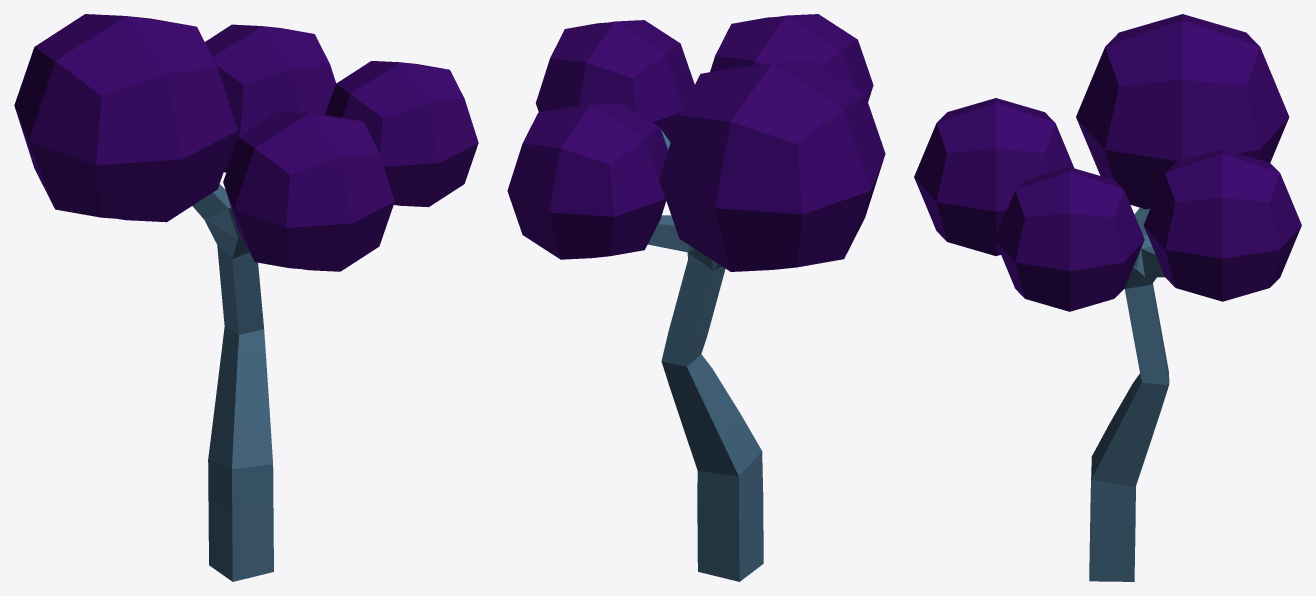
File: TreeLarge1.fbx
3 views of the same model, side by side, from view 1: azimuth 30°, elevation 25°; view 2: azimuth 150°, elevation 25°; view 3: azimuth 270°, elevation 25° (orthographic). The views are drawn at different scales.
Visible parts, largest first — view 1: Cube.002, Cube.001, Plane, Cube.003, Cube.004; view 2: Cube.002, Cube.004, Plane, Cube.003, Cube.001; view 3: Cube.002, Cube.004, Cube.003, Cube.001, Plane.
Part boxes in pixels (bbox=[...]): Cube.002: bbox=[14, 14, 237, 222]; Cube.001: bbox=[223, 112, 394, 271]; Plane: bbox=[192, 184, 273, 581]; Cube.003: bbox=[325, 61, 478, 207]; Cube.004: bbox=[205, 24, 336, 172]; Cube.002: bbox=[659, 61, 885, 271]; Cube.004: bbox=[507, 103, 667, 259]; Plane: bbox=[648, 129, 763, 581]; Cube.003: bbox=[535, 20, 694, 141]; Cube.001: bbox=[710, 14, 873, 101]; Cube.002: bbox=[1076, 14, 1289, 209]; Cube.004: bbox=[1143, 149, 1301, 301]; Cube.003: bbox=[994, 167, 1144, 311]; Cube.001: bbox=[914, 98, 1073, 255]; Plane: bbox=[1089, 207, 1169, 581].
Bounding box in the file's own units: 369 × 396 × 542.
